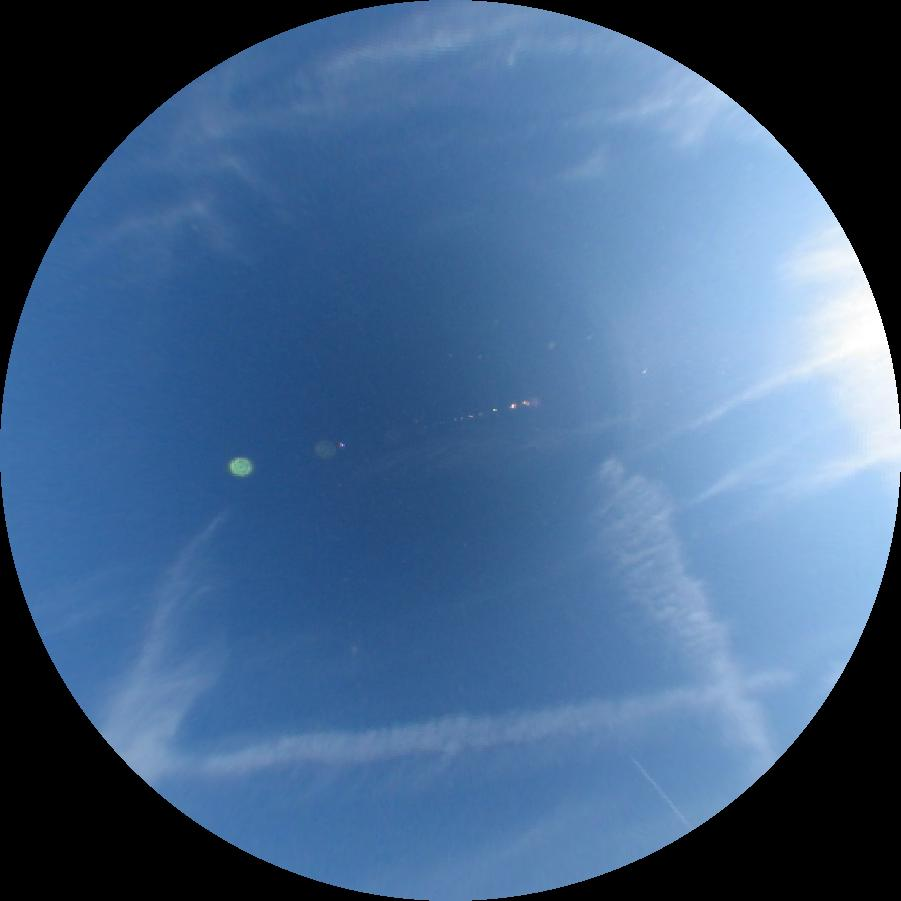contrail veryold: (184, 671, 792, 776), (586, 457, 783, 781), (776, 219, 898, 495)
contrail young: (632, 755, 694, 832)
